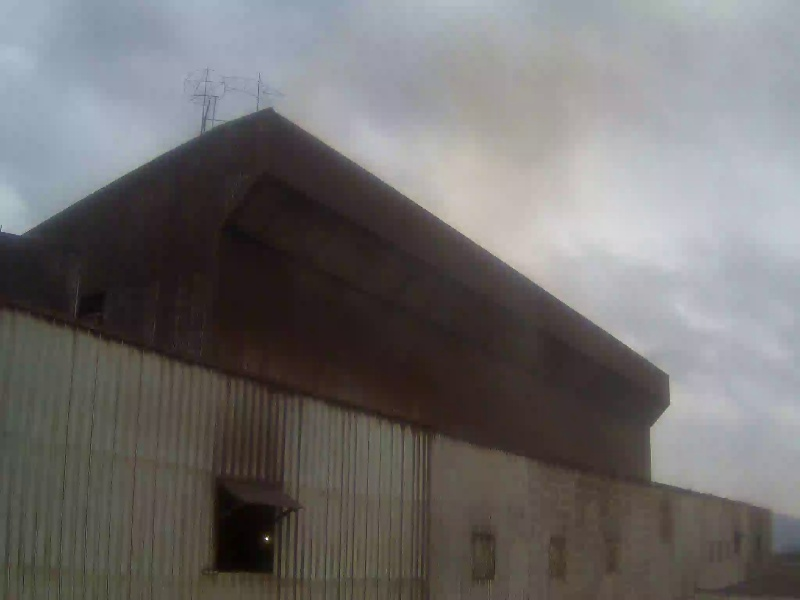Ruim: (400, 17, 618, 286)
